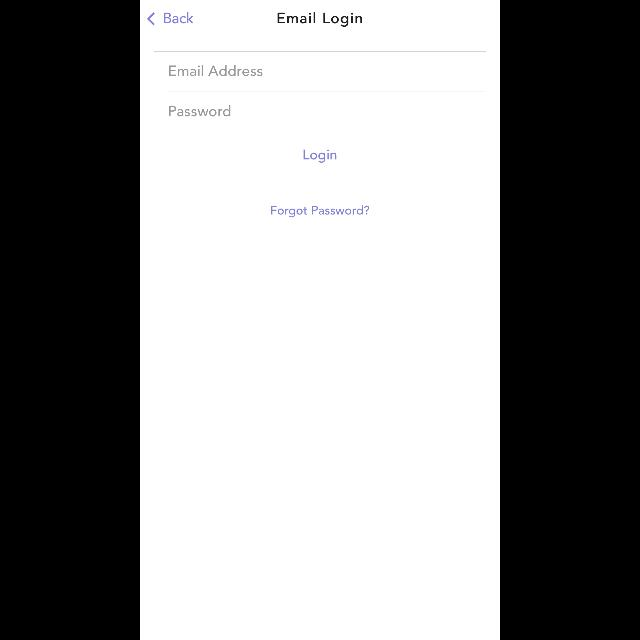icon: (147, 12, 155, 26)
text: (168, 64, 486, 92), (168, 106, 486, 132), (278, 12, 362, 28), (271, 205, 369, 217), (170, 66, 262, 76), (170, 105, 230, 116), (304, 150, 336, 162), (164, 12, 194, 24)
